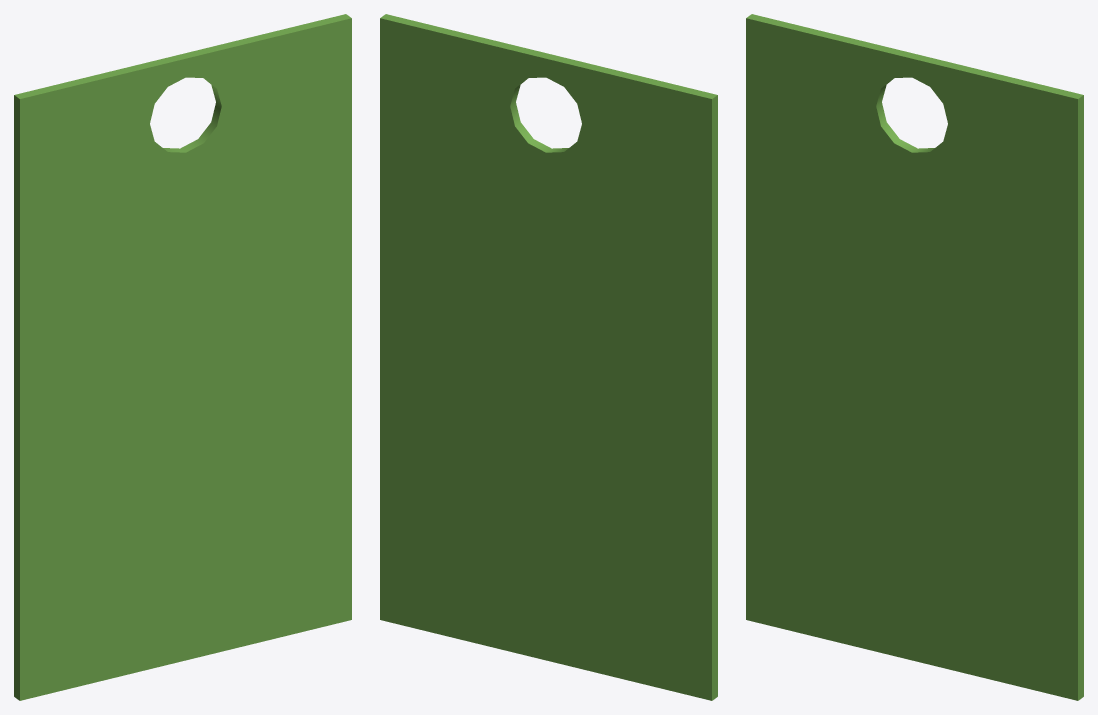
File: Cutting_Board_2.fbx
The picture shows the model from 3 angles, left to right: view 1: azimuth 30°, elevation 25°; view 2: azimuth 150°, elevation 25°; view 3: azimuth 330°, elevation 25°; orthographic projection.
Parts seen in each view (by area): view 1: Сutting_board_2; view 2: Сutting_board_2; view 3: Сutting_board_2.
Part boxes in pixels (bbox=[...]): Сutting_board_2: bbox=[14, 14, 351, 700]; Сutting_board_2: bbox=[380, 14, 717, 700]; Сutting_board_2: bbox=[746, 14, 1083, 700].
Size of the model in its own units: 18.48 by 32 by 0.552.
